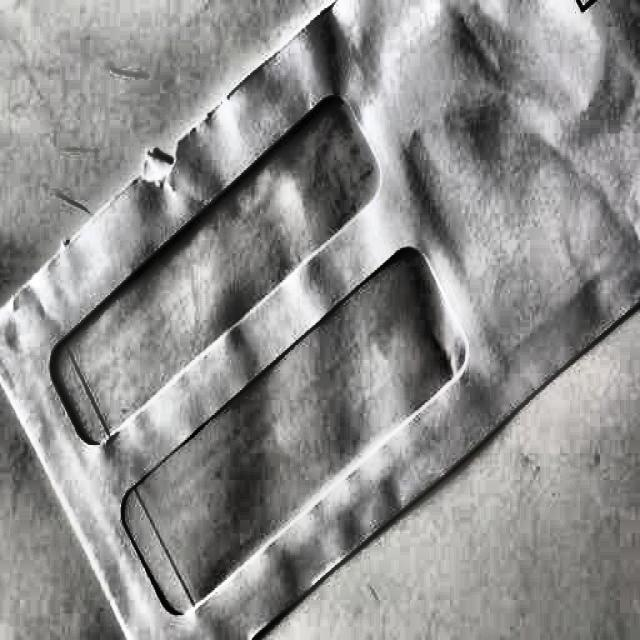paper: (8, 6, 620, 623)
